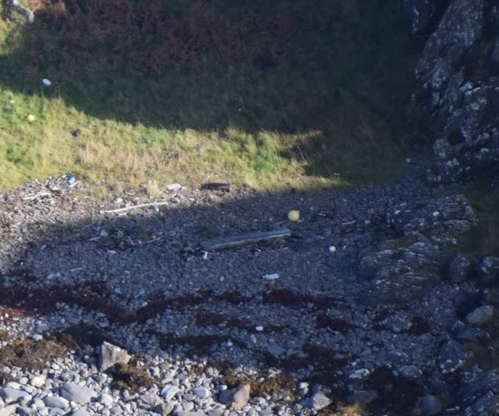scattered_barrel: (243, 239, 346, 338), (7, 71, 70, 128)
straight_bar: (194, 222, 296, 255), (192, 170, 242, 201)
together_barrel: (59, 170, 184, 217)
tube: (97, 198, 171, 222)
